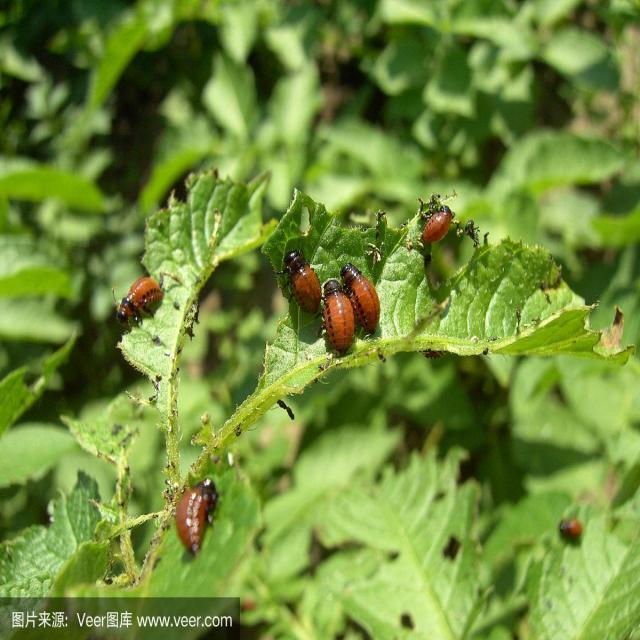ShuCaiHuaBanChong-Larva-: (274, 242, 328, 321), (110, 266, 172, 327), (180, 470, 221, 560), (343, 263, 382, 340), (318, 281, 359, 351), (412, 202, 455, 245)
